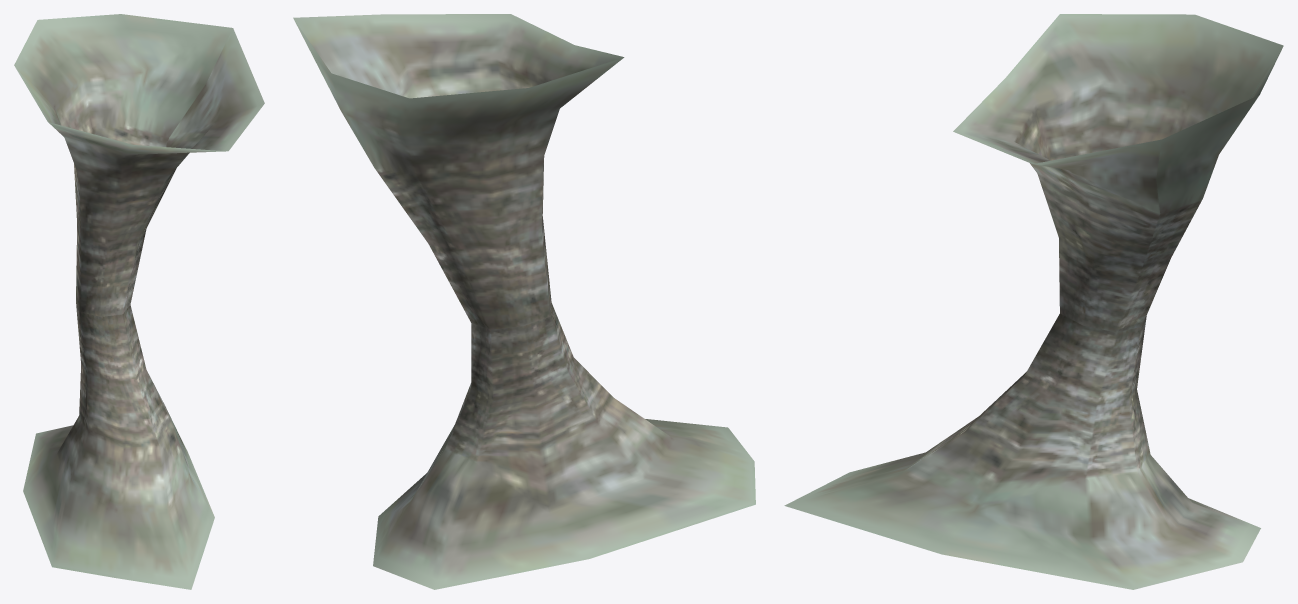
File: TROLLHOLE02_PS-SECRETSTALAG34.fbx
The picture shows the model from 3 angles, left to right: view 1: azimuth 30°, elevation 25°; view 2: azimuth 150°, elevation 25°; view 3: azimuth 270°, elevation 25°; orthographic projection. The views are drawn at different scales.
Parts seen in each view (by area): view 1: TROLLHOLE02_PS-SECRETSTALAG34; view 2: TROLLHOLE02_PS-SECRETSTALAG34; view 3: TROLLHOLE02_PS-SECRETSTALAG34.
Boxes of the visible parts, box(x1,y1,x2,y2) form: TROLLHOLE02_PS-SECRETSTALAG34: box(14, 14, 264, 589); TROLLHOLE02_PS-SECRETSTALAG34: box(293, 14, 755, 589); TROLLHOLE02_PS-SECRETSTALAG34: box(784, 14, 1283, 589).
Bounding box in the file's own units: 40957 × 57130 × 52536.
1 material, 1 textured.
